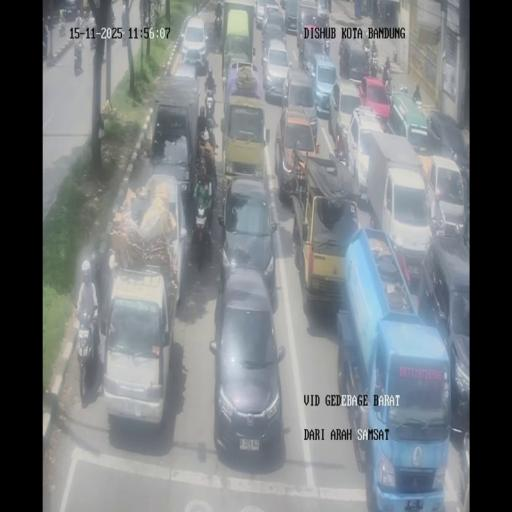car: (210, 270, 284, 464), (101, 268, 175, 430), (417, 235, 469, 428), (218, 177, 278, 301), (219, 90, 267, 195), (423, 154, 467, 239), (388, 91, 432, 151), (281, 64, 317, 136), (331, 74, 363, 154), (261, 40, 292, 102), (180, 16, 209, 70), (298, 27, 325, 71), (280, 0, 300, 33), (254, 0, 270, 27), (61, 0, 78, 21)
motorcycle: (75, 307, 100, 402), (189, 189, 212, 268), (100, 9, 118, 57), (198, 124, 214, 163), (204, 84, 217, 126), (121, 3, 130, 46), (339, 41, 350, 76), (74, 44, 84, 75), (362, 40, 371, 70), (383, 73, 393, 98), (46, 10, 57, 30), (214, 11, 222, 38), (383, 54, 391, 78), (89, 26, 96, 51), (370, 58, 378, 78), (75, 13, 82, 34), (324, 36, 330, 56), (58, 21, 66, 36), (192, 1, 199, 17)
truck: (291, 156, 360, 314), (362, 134, 428, 265), (147, 78, 202, 210), (222, 3, 254, 81), (296, 0, 317, 29), (316, 0, 330, 27)
